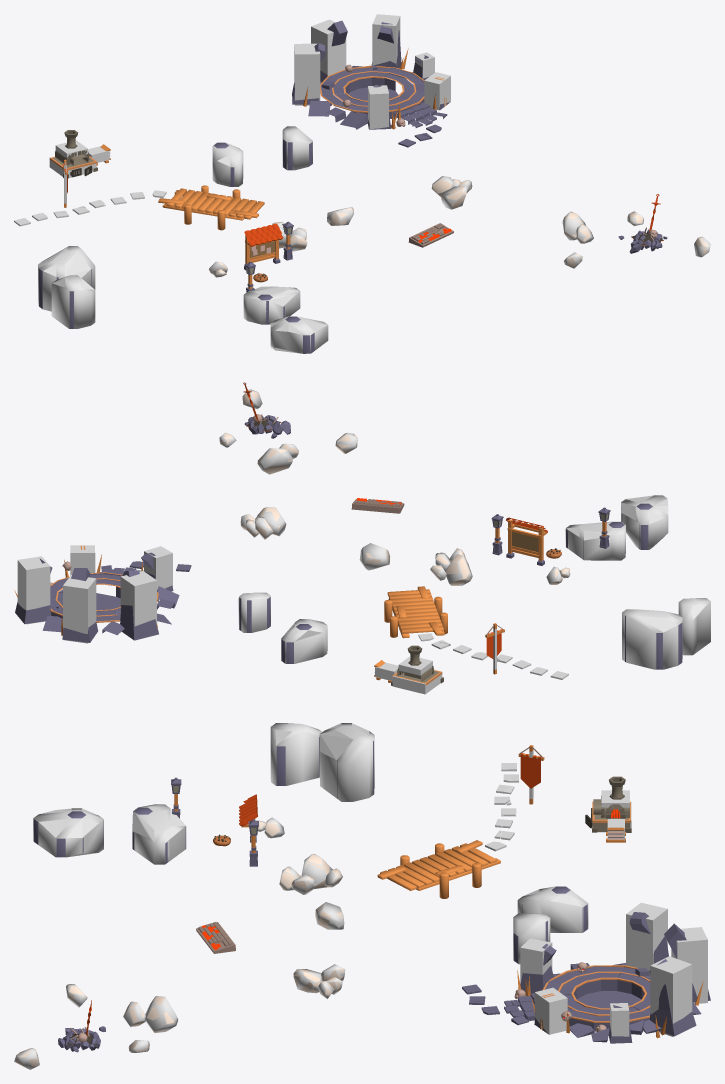
File: sceneryStatic.glb
3 views of the same model, one above another, from view 1: azimuth 30°, elevation 25°; view 2: azimuth 150°, elevation 25°; view 3: azimuth 270°, elevation 25° (orthographic). The views are drawn at different scales.
Visible parts, largest first — view 1: Cylinder.021, Cube.139, hull.016, hull.015, hull.012, hull.011, Cube.165, Cube.172, Cylinder.022, hull.014, Cube.164, Cube.146 (+9 smaller); view 2: hull.015, Cube.139, Cube.172, hull.012, hull.011, Cube.164, Cylinder.022, Cube.146, hull.016, Cylinder.021, Cube.165, hull.014 (+13 smaller); view 3: Cylinder.021, hull.015, Cube.139, Cube.172, hull.011, hull.016, hull.012, hull.014, Cube.146, Cube.165, Cylinder.022, Cube.164 (+14 smaller).
Part boxes in pixels (bbox=[...]): Cylinder.021: bbox=[320, 67, 447, 127]; Cube.139: bbox=[158, 185, 264, 230]; hull.016: bbox=[51, 275, 95, 328]; hull.015: bbox=[38, 246, 95, 311]; hull.012: bbox=[243, 286, 300, 324]; hull.011: bbox=[270, 316, 328, 353]; Cube.165: bbox=[294, 43, 320, 105]; Cube.172: bbox=[292, 20, 428, 129]; Cylinder.022: bbox=[39, 139, 314, 353]; hull.014: bbox=[212, 142, 243, 186]; Cube.164: bbox=[311, 19, 346, 75]; Cube.146: bbox=[372, 14, 400, 65]; hull.015: bbox=[622, 609, 682, 669]; Cube.139: bbox=[384, 586, 447, 638]; Cube.172: bbox=[15, 552, 173, 642]; hull.012: bbox=[565, 521, 625, 560]; hull.011: bbox=[621, 495, 668, 549]; Cube.164: bbox=[63, 575, 96, 643]; Cylinder.022: bbox=[239, 503, 682, 669]; Cube.146: bbox=[17, 556, 50, 624]; hull.016: bbox=[678, 598, 710, 655]; Cylinder.021: bbox=[50, 565, 158, 621]; Cube.165: bbox=[120, 571, 156, 640]; hull.014: bbox=[281, 619, 327, 663]; Cylinder.021: bbox=[504, 966, 650, 1031]; hull.015: bbox=[319, 723, 374, 801]; Cube.139: bbox=[377, 840, 500, 898]; Cube.172: bbox=[520, 912, 710, 1043]; hull.011: bbox=[33, 808, 103, 857]; hull.016: bbox=[270, 723, 321, 785]; hull.012: bbox=[132, 804, 186, 864]; hull.014: bbox=[517, 886, 588, 932]; Cube.146: bbox=[650, 956, 692, 1036]; Cube.165: bbox=[626, 902, 667, 970]; Cylinder.022: bbox=[33, 737, 587, 963]; Cube.164: bbox=[671, 927, 707, 1003].
Bounding box in the file's own units: 55.13 × 8.2 × 50.04.
